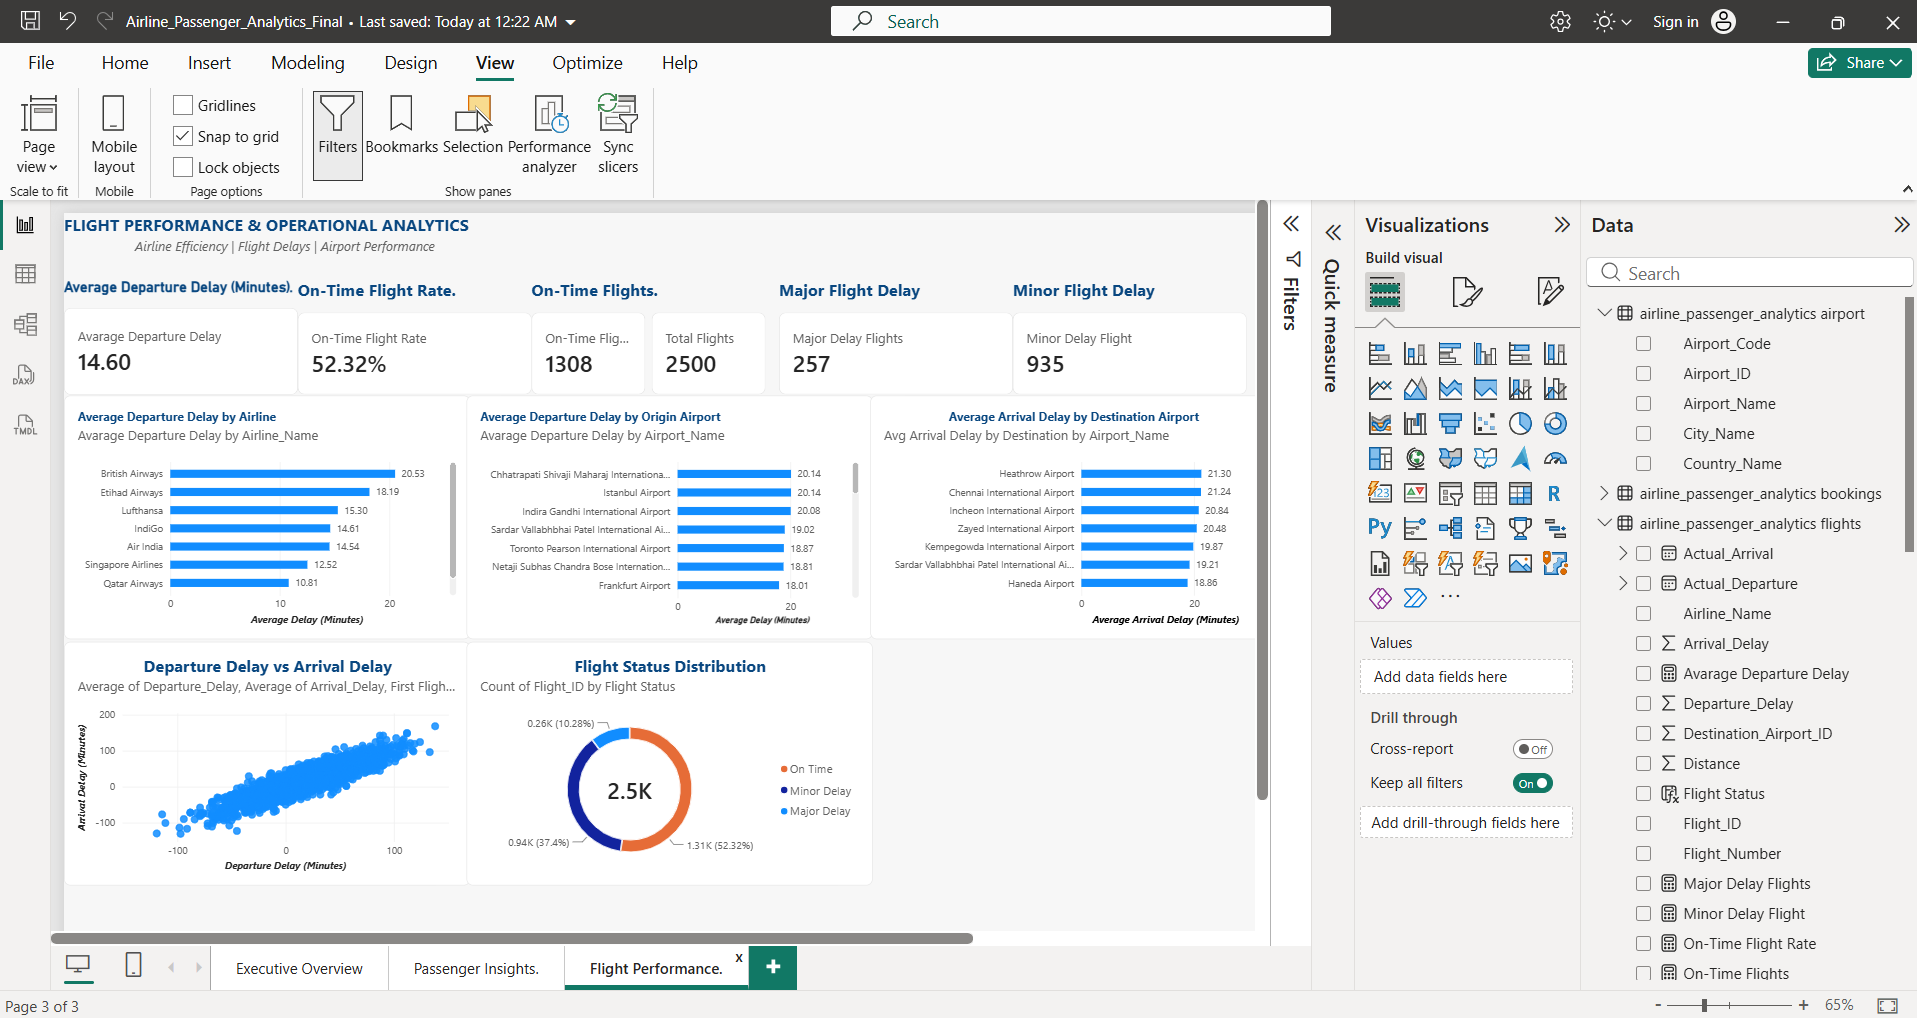

What the dashboard file says about the page in this screenshot:
{"tool":"powerbi","page":{"name":"Flight Performance.","canvas":[1920,1080],"ordinal":2},"visuals":[{"type":"textbox","title":"FLIGHT PERFORMANCE & OPERATIONAL ANALYTICS","box":[0,0,544,64],"z":0},{"type":"cardVisual","title":"Average Departure Delay (Minutes).","fields":{"Data":["airline_passenger_analytics flights.Avarage Departure Delay"]},"box":[0,80,288,144],"z":1000},{"type":"cardVisual","title":"On-Time Flight Rate.","fields":{"Data":["airline_passenger_analytics flights.On-Time Flight Rate"]},"box":[288,80,288,144],"z":2000},{"type":"cardVisual","title":"On-Time Flights.","fields":{"Data":["airline_passenger_analytics flights.On-Time Flights","airline_passenger_analytics flights.Total Flights"]},"box":[576,80,288,144],"z":3000},{"type":"cardVisual","title":"Major Flight Delay","fields":{"Data":["airline_passenger_analytics flights.Major Delay Flights"]},"box":[880,80,288,144],"z":4000},{"type":"cardVisual","title":"Minor Flight Delay","fields":{"Data":["airline_passenger_analytics flights.Minor Delay Flight"]},"box":[1168,80,288,144],"z":5000},{"type":"clusteredBarChart","title":"Average Departure Delay by Airline","fields":{"Category":["airline_passenger_analytics flights.Airline_Name"],"Y":["airline_passenger_analytics flights.Avarage Departure Delay"]},"box":[0,224,500,300],"z":6000},{"type":"clusteredBarChart","title":"Average Departure Delay by Origin Airport","fields":{"Category":["airline_passenger_analytics airport.Airport_Name"],"Y":["airline_passenger_analytics flights.Avarage Departure Delay"]},"box":[496,224,500,300],"z":7000},{"type":"clusteredBarChart","title":"Average Arrival Delay by Destination Airport","fields":{"Category":["airline_passenger_analytics airport.Airport_Name"],"Y":["airline_passenger_analytics passenger_surveys.Avg Arrival Delay by Destination"]},"box":[992,224,500,300],"z":8000},{"type":"scatterChart","title":"Departure Delay vs Arrival Delay","fields":{"Category":["airline_passenger_analytics flights.Flight_ID"],"X":["Avg(airline_passenger_analytics flights.Departure_Delay)"],"Y":["Avg(airline_passenger_analytics flights.Arrival_Delay)"]},"box":[0,528,500,300],"z":9000},{"type":"donutChart","title":"Flight Status Distribution","fields":{"Category":["airline_passenger_analytics flights.Flight Status"],"Y":["CountNonNull(airline_passenger_analytics flights.Flight_ID)"]},"box":[496,528,500,300],"z":10000}]}

Visuals, with their boxes on the page's 1920x1080 design canvas (x1, y1, x2, y2). These are canvas units, not pixel positions in the 1917x1018 screenshot, which may show the page scaled, cropped or inside an application window:
"FLIGHT PERFORMANCE & OPERATIONAL ANALYTICS" textbox: pyautogui.locateOnScreen(0, 0, 544, 64)
"Average Departure Delay (Minutes)." cardVisual: pyautogui.locateOnScreen(0, 80, 288, 224)
"On-Time Flight Rate." cardVisual: pyautogui.locateOnScreen(288, 80, 576, 224)
"On-Time Flights." cardVisual: pyautogui.locateOnScreen(576, 80, 864, 224)
"Major Flight Delay" cardVisual: pyautogui.locateOnScreen(880, 80, 1168, 224)
"Minor Flight Delay" cardVisual: pyautogui.locateOnScreen(1168, 80, 1456, 224)
"Average Departure Delay by Airline" clusteredBarChart: pyautogui.locateOnScreen(0, 224, 500, 524)
"Average Departure Delay by Origin Airport" clusteredBarChart: pyautogui.locateOnScreen(496, 224, 996, 524)
"Average Arrival Delay by Destination Airport" clusteredBarChart: pyautogui.locateOnScreen(992, 224, 1492, 524)
"Departure Delay vs Arrival Delay" scatterChart: pyautogui.locateOnScreen(0, 528, 500, 828)
"Flight Status Distribution" donutChart: pyautogui.locateOnScreen(496, 528, 996, 828)
